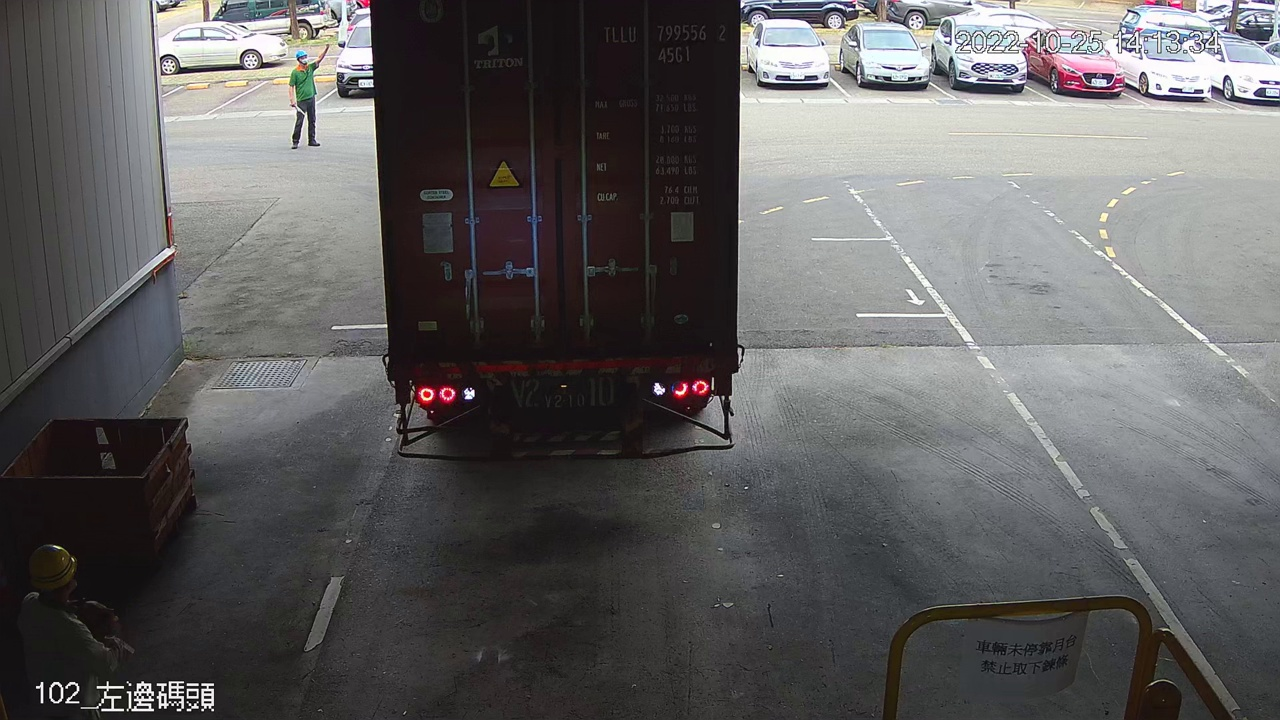container: (594, 20, 735, 73)
